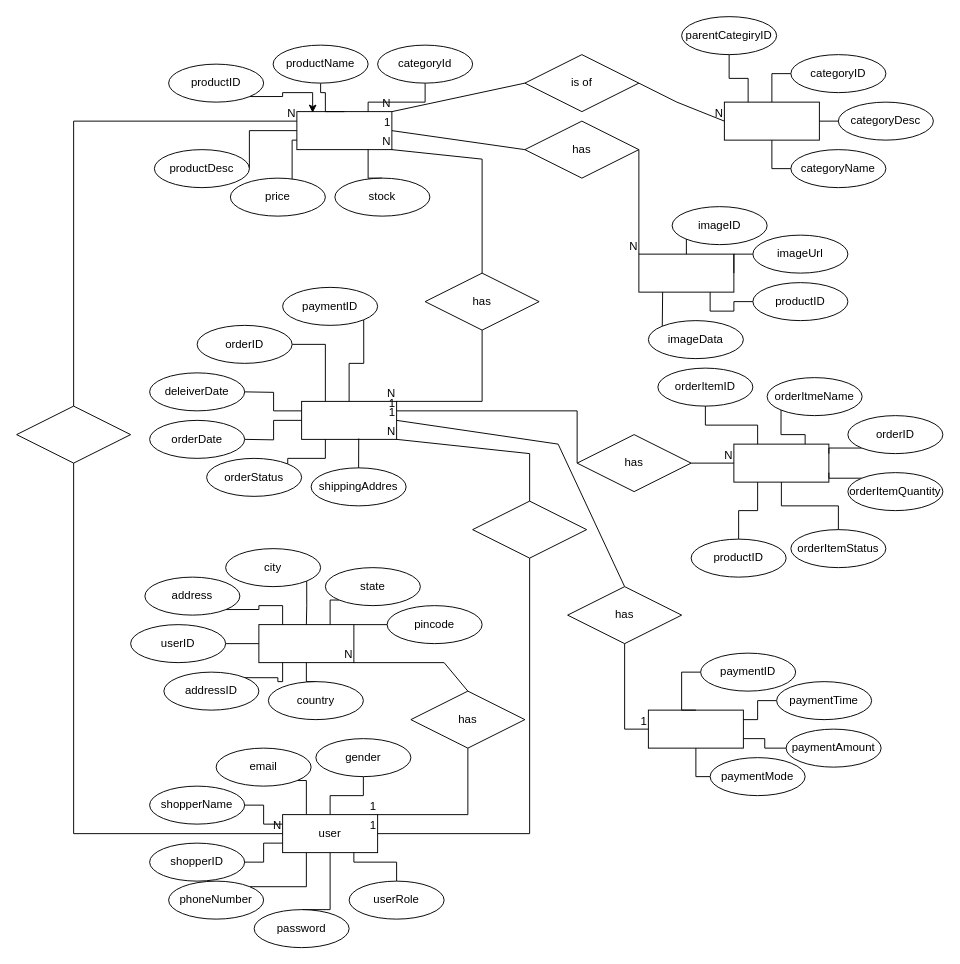
This 960x964 diagram has some shape labels left out. The shapes that lost their labels are listed below. From the top down, each one's centre as x and y in pixels, then its label:
At (x=344, y=130): "Product".
At (x=771, y=120): "Category".
At (x=686, y=272): "Images".
At (x=73, y=434): "views".
At (x=349, y=419): "Order".
At (x=781, y=462): "orderItem".
At (x=529, y=529): "places".
At (x=306, y=643): "ShippingAddress".
At (x=695, y=728): "payment".
